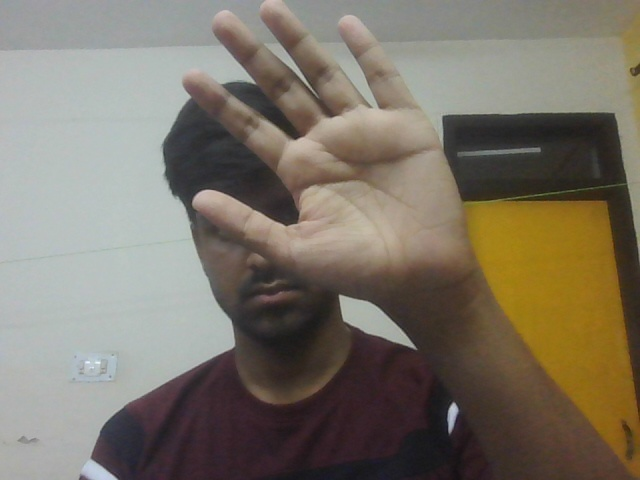hello: (175, 2, 506, 315)
